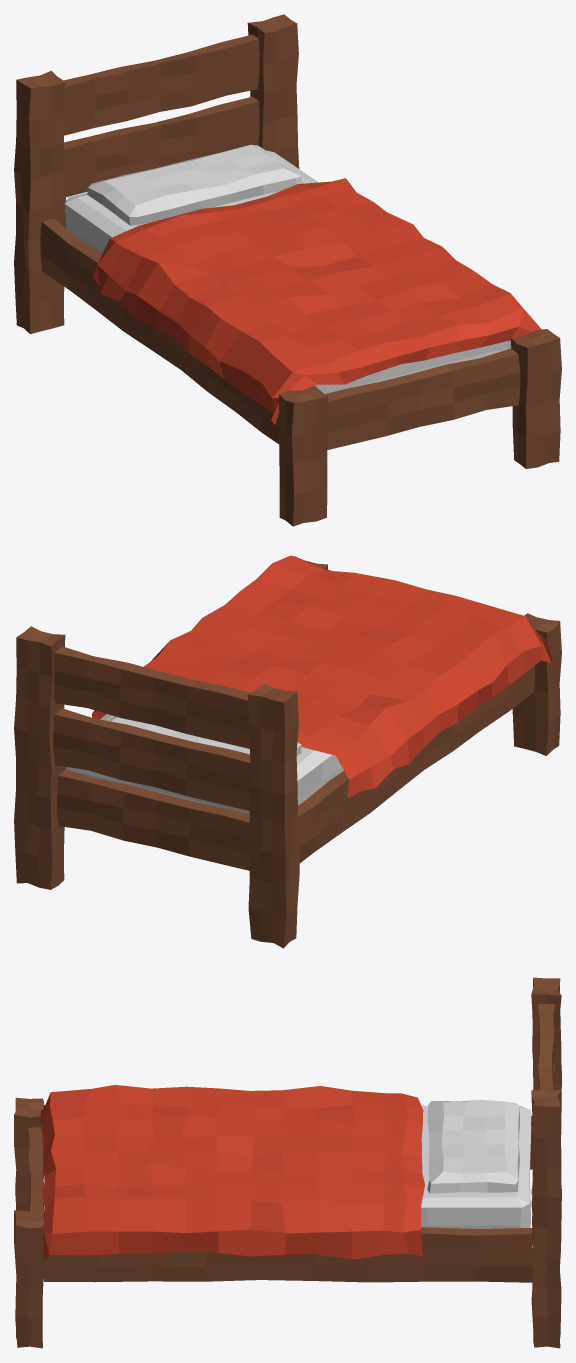
Rendered from bed.glb.
3 views of the same model, one above another, from view 1: azimuth 30°, elevation 25°; view 2: azimuth 150°, elevation 25°; view 3: azimuth 270°, elevation 25° (orthographic).
Visible parts, largest first — view 1: Duvet, HeadLegs, FootLegs, Cube.002, Cube.004, Cube.003, Pillow, Cube.001, Mattress; view 2: Duvet, HeadLegs, Cube.003, Cube.004, Cube.002, Cube.001, FootLegs, Mattress, Pillow; view 3: Duvet, Cube.001, HeadLegs, Pillow, FootLegs, Mattress, Cube.004, Cube.002.
Boxes of the visible parts, x1,y1,x2,y2 form: Duvet: (92, 178, 541, 424); HeadLegs: (14, 14, 299, 334); FootLegs: (278, 329, 561, 526); Cube.002: (65, 215, 520, 449); Cube.004: (63, 34, 259, 135); Cube.003: (64, 96, 259, 197); Pillow: (87, 144, 302, 225); Cube.001: (40, 218, 279, 444); Mattress: (64, 150, 511, 393); Duvet: (92, 555, 552, 797); HeadLegs: (14, 626, 299, 948); Cube.003: (53, 708, 250, 810); Cube.004: (54, 646, 250, 748); Cube.002: (57, 769, 249, 870); Cube.001: (298, 666, 534, 863); FootLegs: (293, 556, 561, 755); Mattress: (65, 714, 343, 813); Pillow: (107, 716, 301, 755); Duvet: (40, 1085, 424, 1259); Cube.001: (43, 1116, 533, 1282); HeadLegs: (531, 977, 561, 1348); Pillow: (427, 1100, 519, 1193); FootLegs: (14, 1097, 44, 1348); Mattress: (421, 1105, 531, 1228); Cube.004: (538, 1004, 554, 1090); Cube.002: (28, 1127, 533, 1211).
Size of the model in its own units: 1.2 by 1.01 by 2.07.
1 material, 1 textured.
